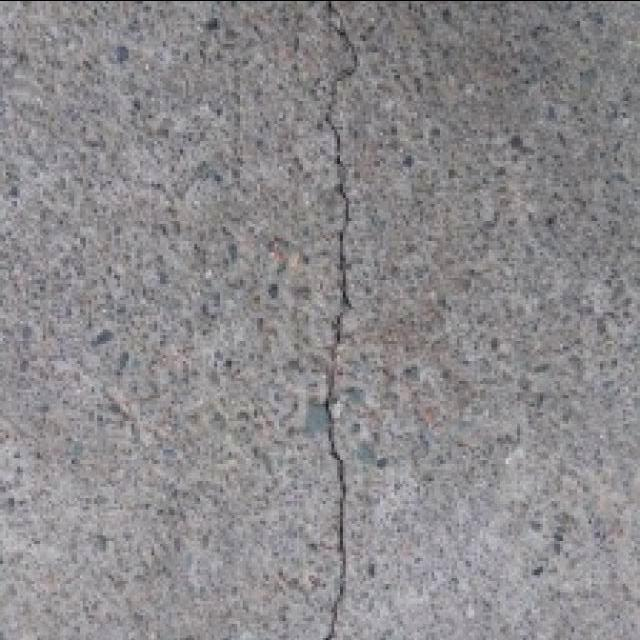SurfaceCrack: (270, 0, 414, 640)
